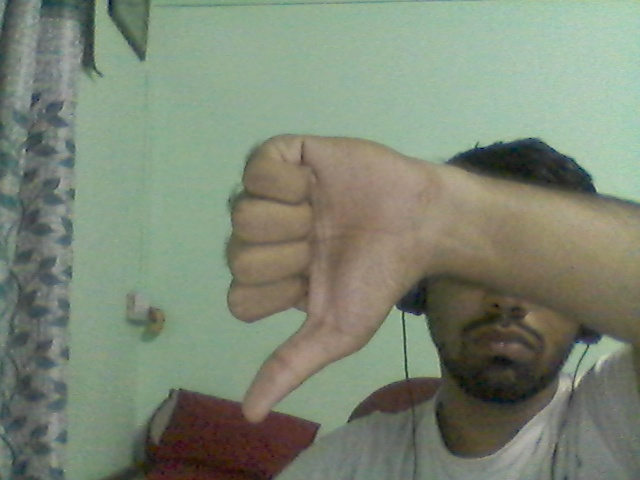No: (188, 80, 483, 434)
